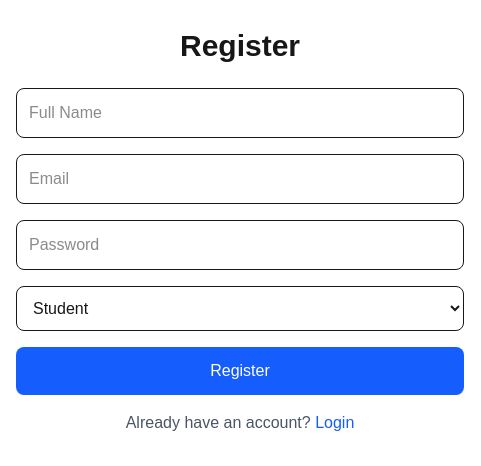
Test: RegisterPage › should display error message on API error
Type "Test User" into the field with placeholder "Full Name".
click(240, 112); type("Test User")  # box [16, 88, 464, 138]
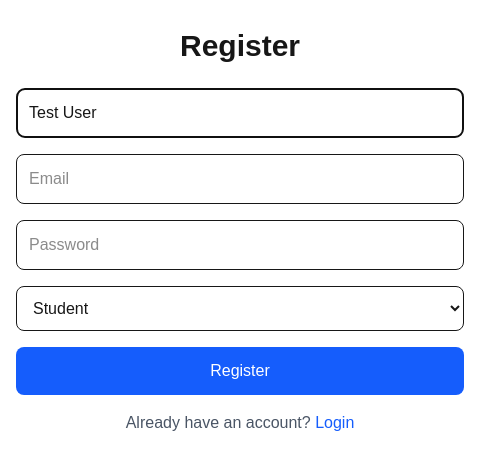
Type "test@test.com" into the field with placeholder "Email".
click(240, 178); type("test@test.com")  # box [16, 154, 464, 204]
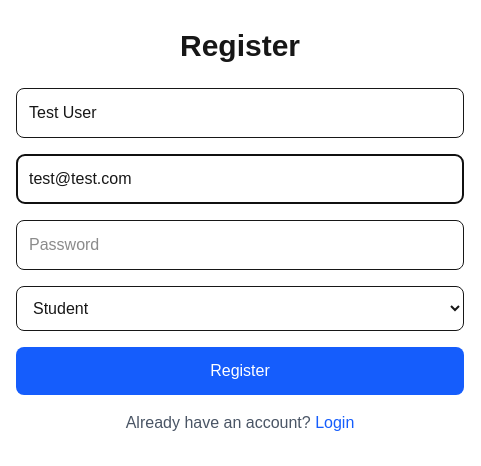
Type "password123" into the password field with placeholder "Password".
click(240, 244); type("password123")  # box [16, 220, 464, 270]
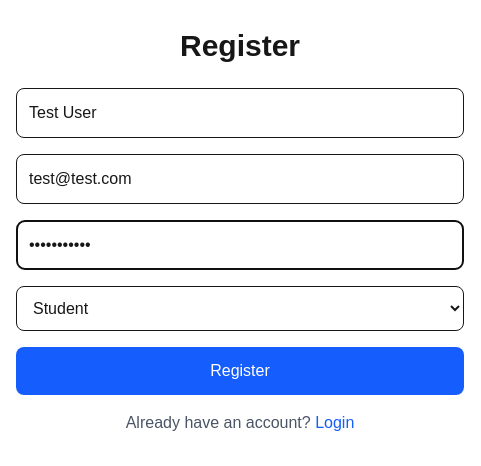
Click the button "Register".
click(240, 370)  # box [16, 346, 464, 394]
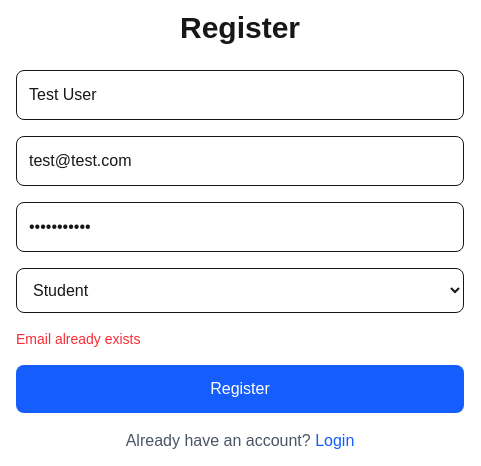
Check: the text "Email already exists" is shown, box [16, 330, 140, 346]
